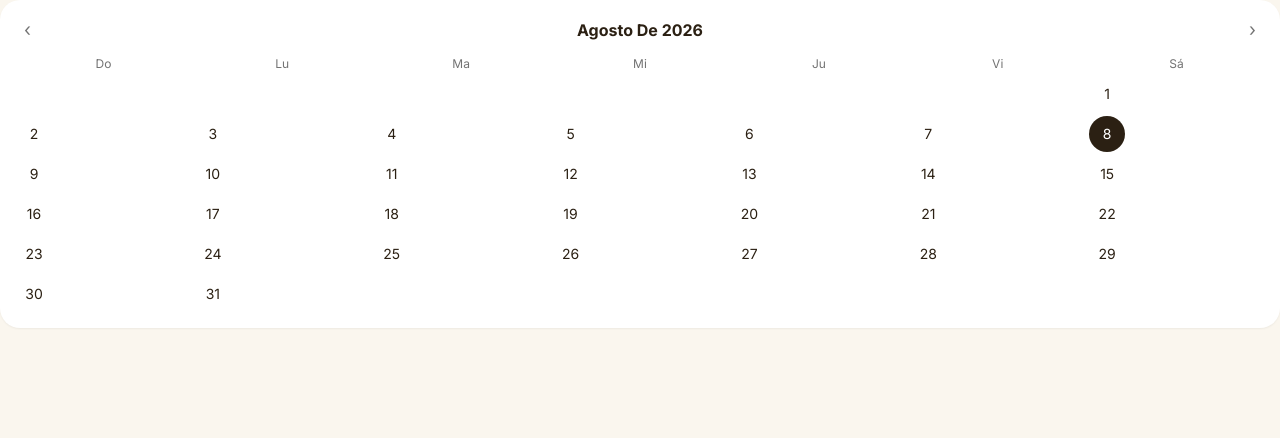
MonthCalendar › al hacer clic en un día sin marcar muestra "Aún no marcado"
Click the button "10".
click(213, 174)  # box top-left (195, 156), bottom-right (231, 192)
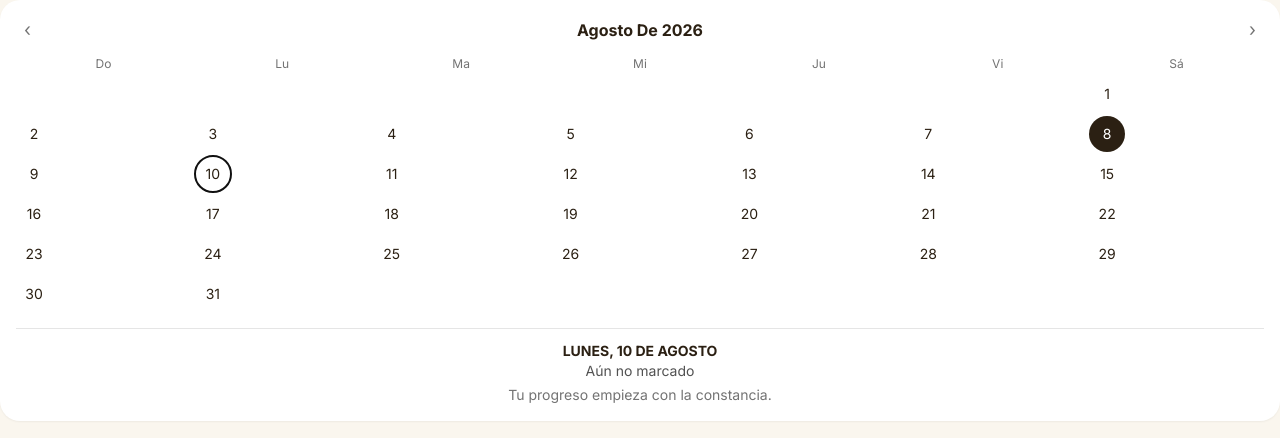
Expected: the text "Aún no marcado" is shown, top-left (586, 362), bottom-right (694, 379)
